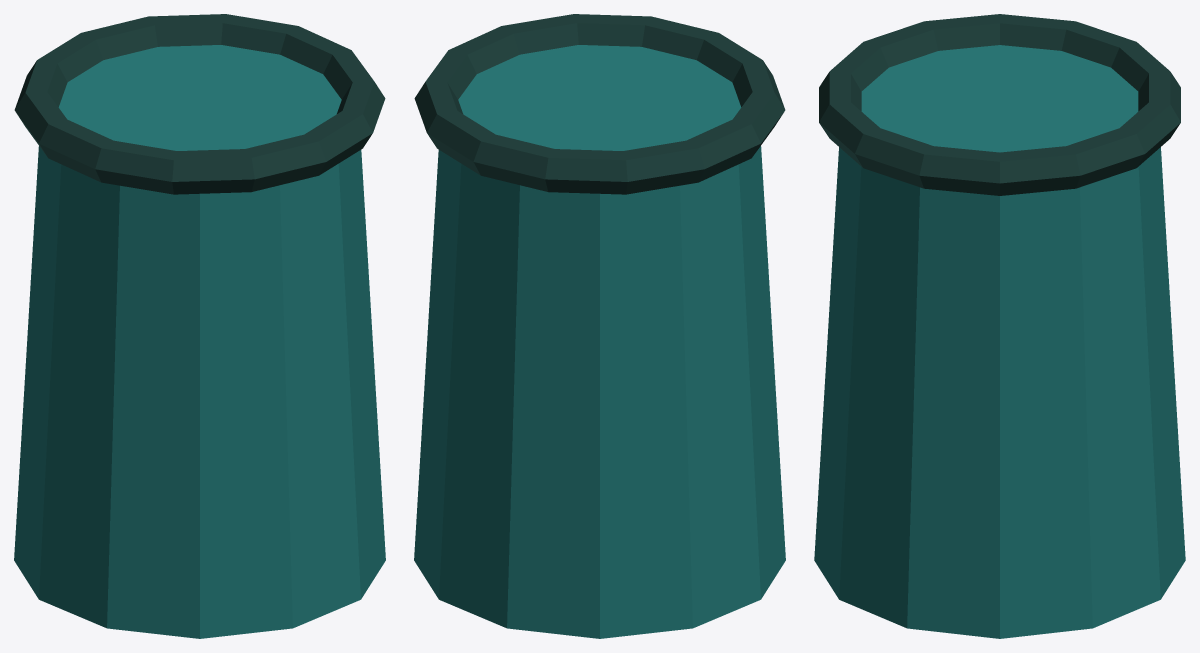
File: prop_bin.glb
3 views of the same model, side by side, from view 1: azimuth 30°, elevation 25°; view 2: azimuth 150°, elevation 25°; view 3: azimuth 270°, elevation 25° (orthographic).
Visible parts, largest first — view 1: rough; view 2: rough; view 3: rough.
Boxes of the visible parts, bbox=[...] form: rough: bbox=[14, 14, 385, 638]; rough: bbox=[414, 14, 785, 638]; rough: bbox=[814, 14, 1185, 638].
Size of the model in its own units: 0.68 by 0.9546 by 0.68.
